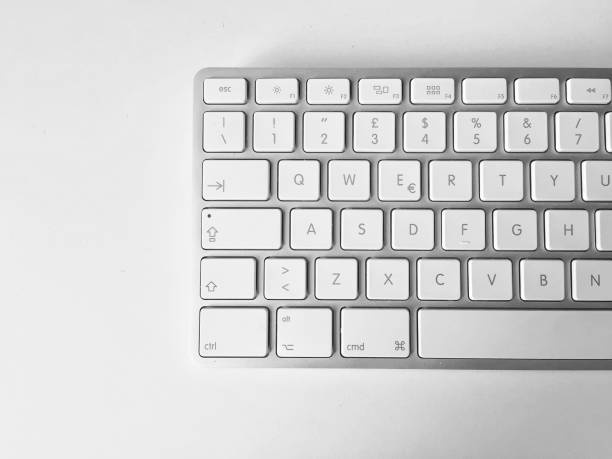keyboard: (192, 65, 612, 373)
